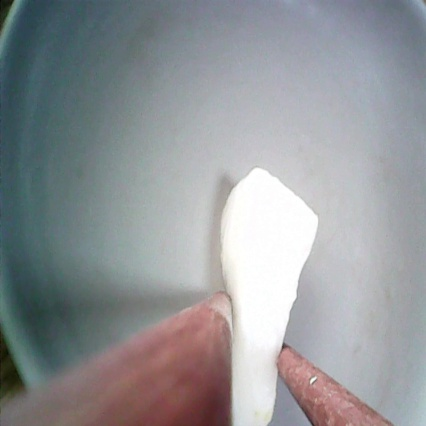white_chinese-yam: (214, 166, 321, 426)
